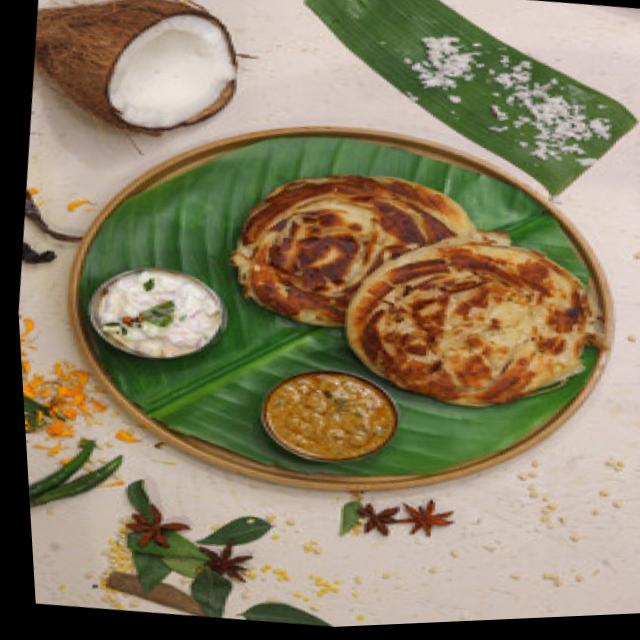CURD: (83, 261, 225, 365)
KURMA: (261, 370, 399, 461)
PAROTTA: (213, 168, 595, 409)
